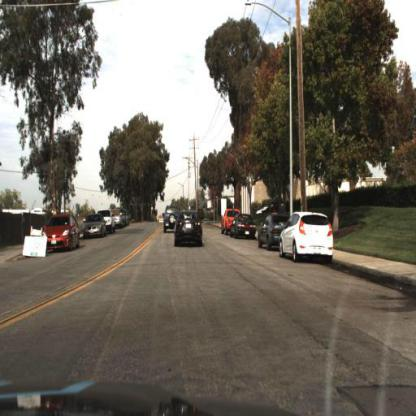car: (278, 209, 340, 271), (42, 207, 82, 257), (169, 206, 208, 251), (255, 207, 282, 256), (173, 209, 205, 249), (78, 211, 109, 244), (230, 214, 257, 243), (162, 200, 180, 238), (105, 204, 117, 239), (221, 208, 235, 238), (102, 209, 117, 235)
